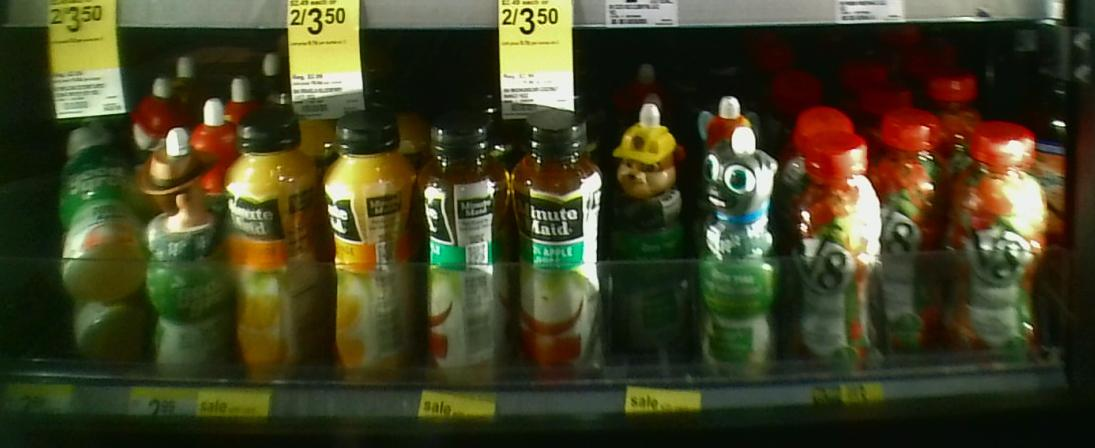bottle: (411, 117, 517, 391), (232, 104, 329, 391), (953, 110, 1061, 362), (780, 128, 888, 371), (45, 110, 143, 372), (518, 110, 607, 394), (695, 98, 780, 380), (333, 103, 415, 390), (141, 141, 231, 382), (611, 101, 692, 356), (887, 122, 948, 350)
